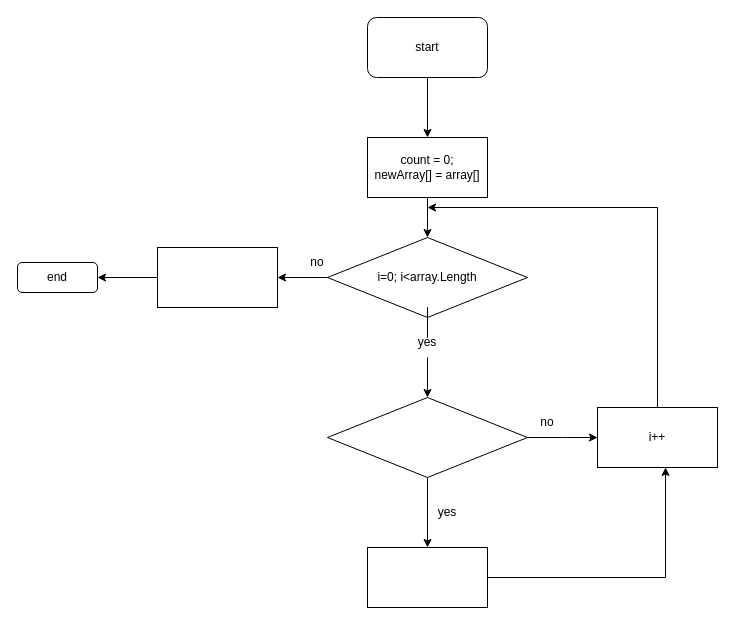
The diagram is 735 pixels wide and 625 high, and some of its shapes have lost their labels. Each missing label, with the centre of its shape:
array[i].Length<=3: (x=427, y=437)
newArray[]: (x=217, y=277)
newArray[count] = array[i]; count++: (x=427, y=577)
